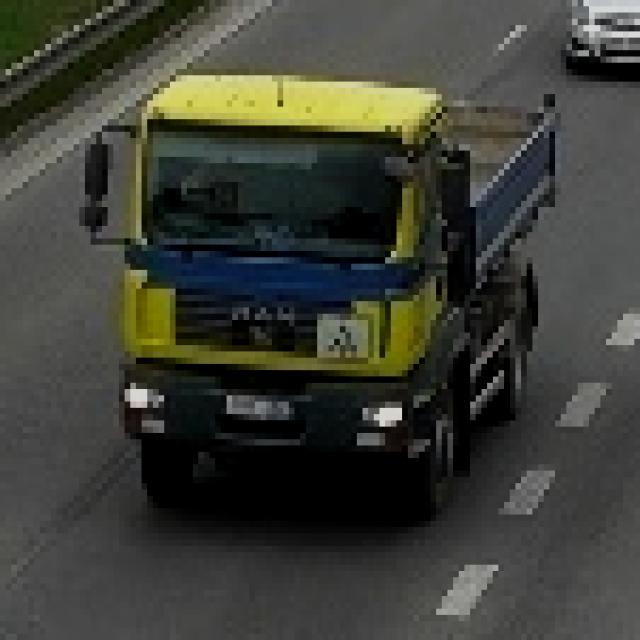truck: (80, 58, 556, 516)
